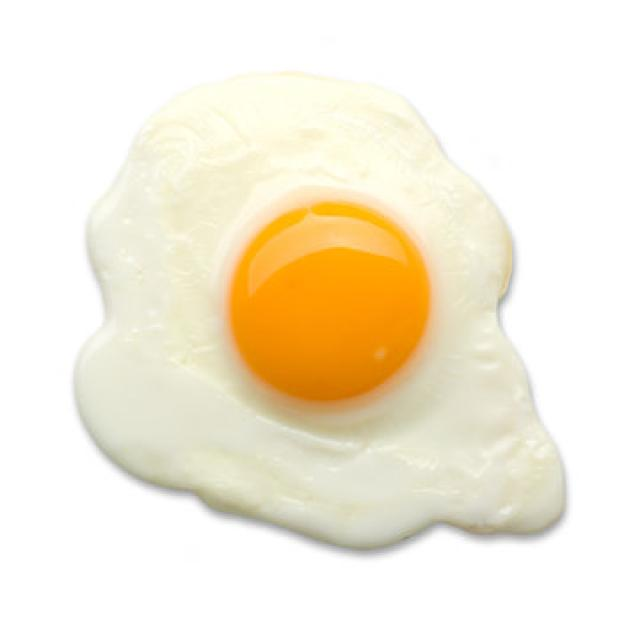Egg: (78, 74, 562, 547)
